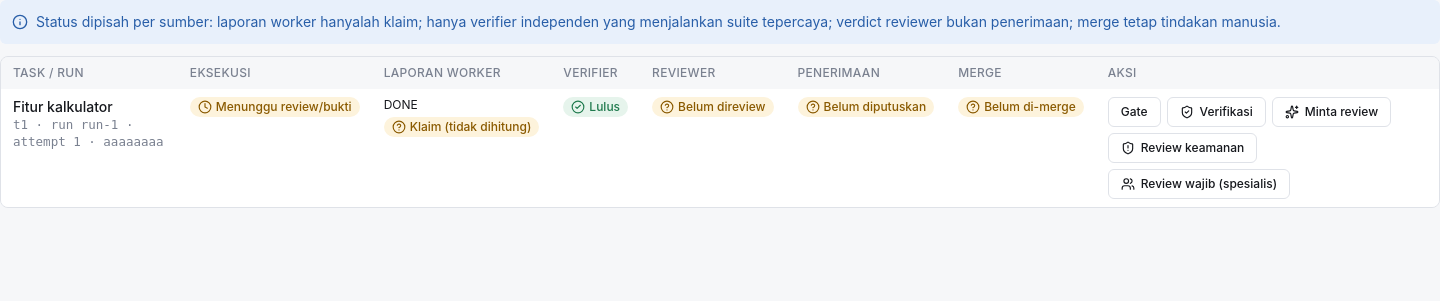
Test: Evidence & Decisions page › requests the feature + required specialist reviews in one batch and shows why a batch stopped (§17, §19)
What coordinates should you click on to do the following:
click the button "Review wajib (spesialis)"
I would click on:
 (1199, 184)
Its box is [1108,169,1290,199].
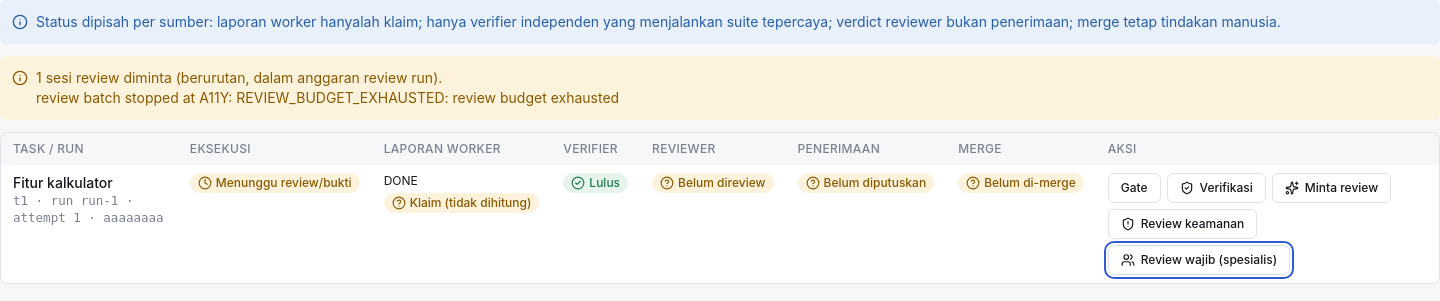
Check: the text "REVIEW_BUDGET_EXHAUSTED" is shown, box [36,89,619,106]
